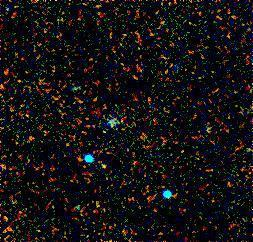star: (92, 151, 122, 181)
